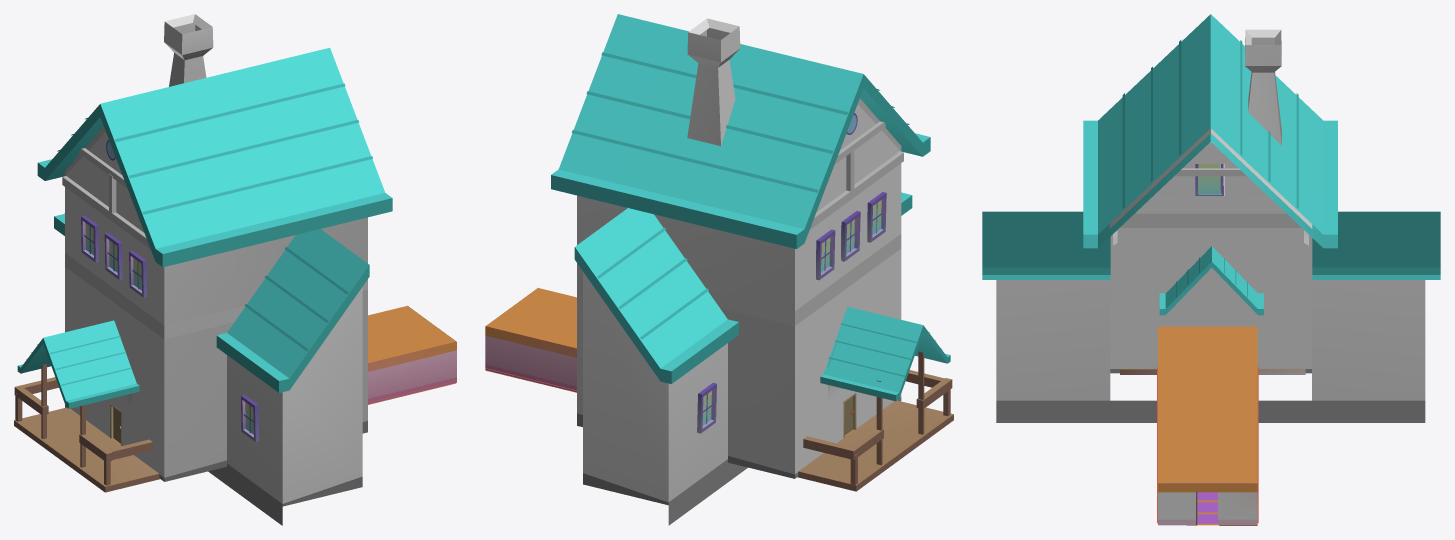
Rendered from house-leave.fbx.
3 renders of one model, left to right at view 1: azimuth 30°, elevation 25°; view 2: azimuth 150°, elevation 25°; view 3: azimuth 270°, elevation 25°, orthographic. The views are drawn at different scales.
Parts seen in each view (by area): view 1: Cube.000; view 2: Cube.000; view 3: Cube.000.
Part boxes in pixels (left/top/right/bottom): Cube.000: left=14, top=14, right=456, bottom=525; Cube.000: left=485, top=14, right=953, bottom=525; Cube.000: left=982, top=14, right=1440, bottom=525.
Bounding box in the file's own units: 29.51 × 28.91 × 29.72.
